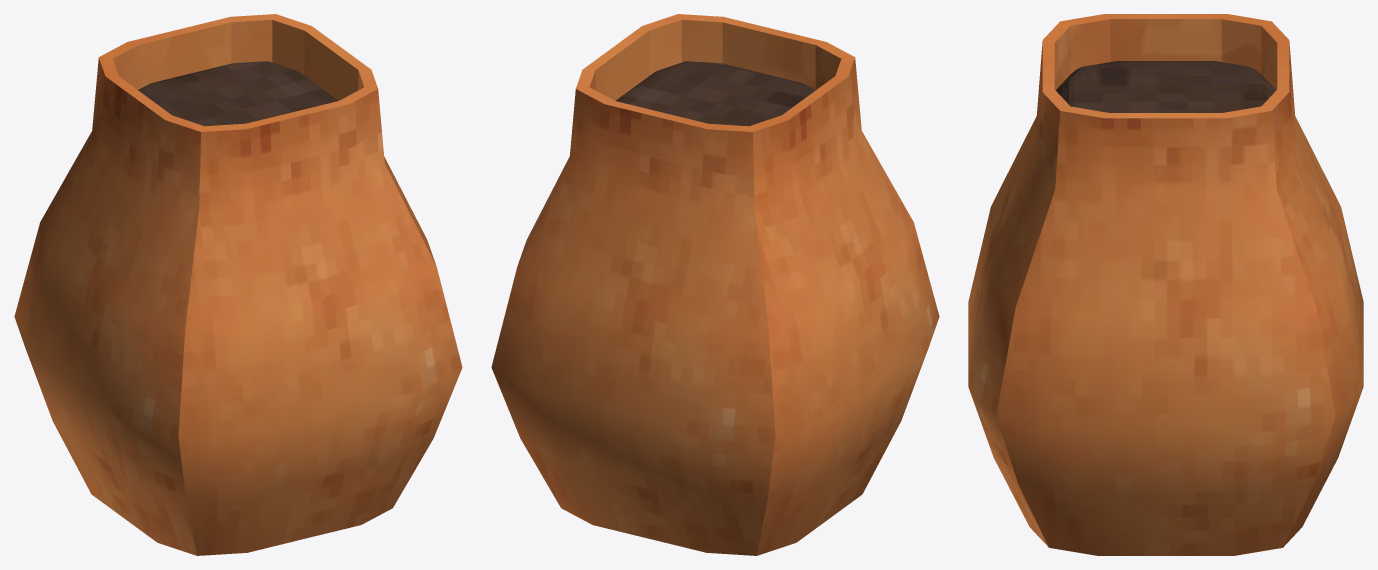
The model's file is Maceta_3.fbx.
The picture shows the model from 3 angles, left to right: view 1: azimuth 30°, elevation 25°; view 2: azimuth 150°, elevation 25°; view 3: azimuth 270°, elevation 25°; orthographic projection. The views are drawn at different scales.
Visible parts, largest first — view 1: pCube2; view 2: pCube2; view 3: pCube2.
Part boxes in pixels (box(x1,y1,x2,y2)): pCube2: box(14, 14, 462, 555); pCube2: box(491, 14, 939, 555); pCube2: box(968, 14, 1363, 555).
Size of the model in its own units: 117 by 140 by 117.
